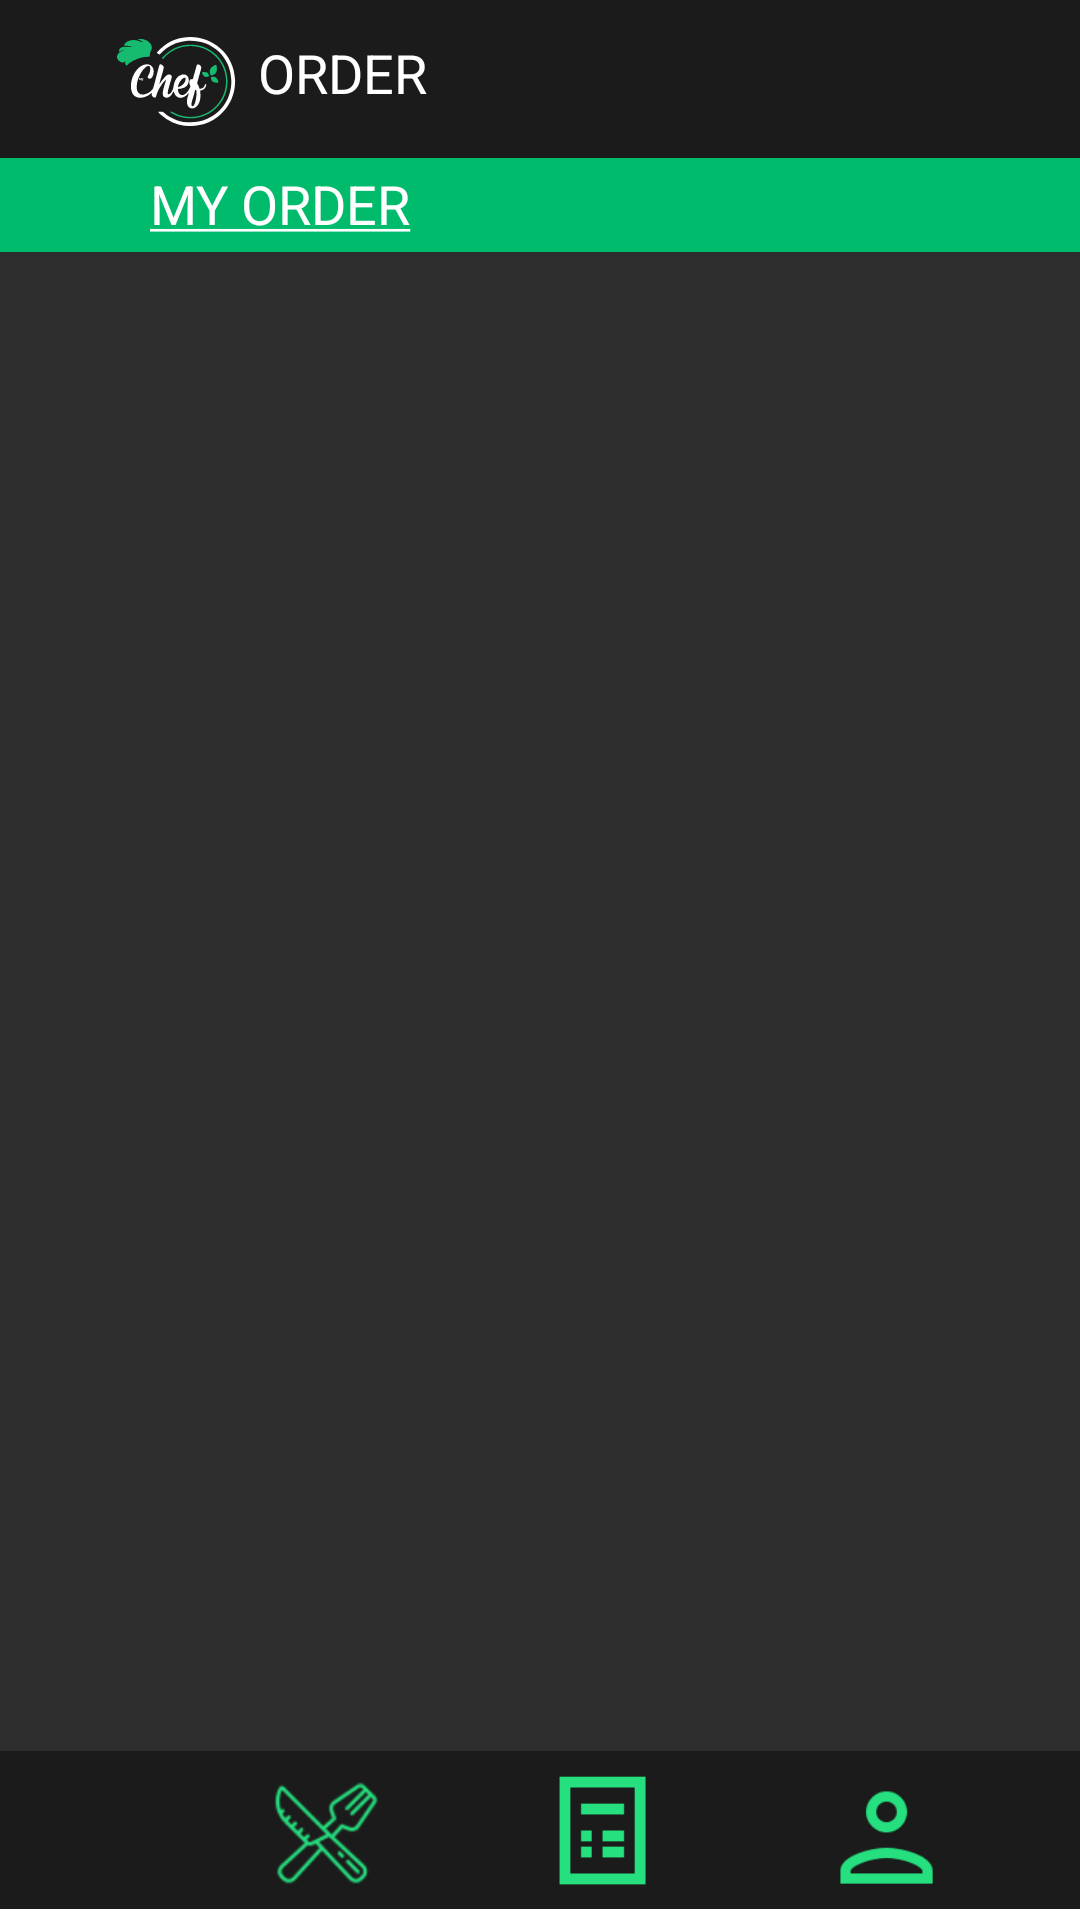

Named icons in this screenshot (1080x1920) and their centers, (x=x, y=y):
menuicon: (x=326, y=1833)
ordericon: (x=602, y=1830)
profileicon: (x=886, y=1837)
